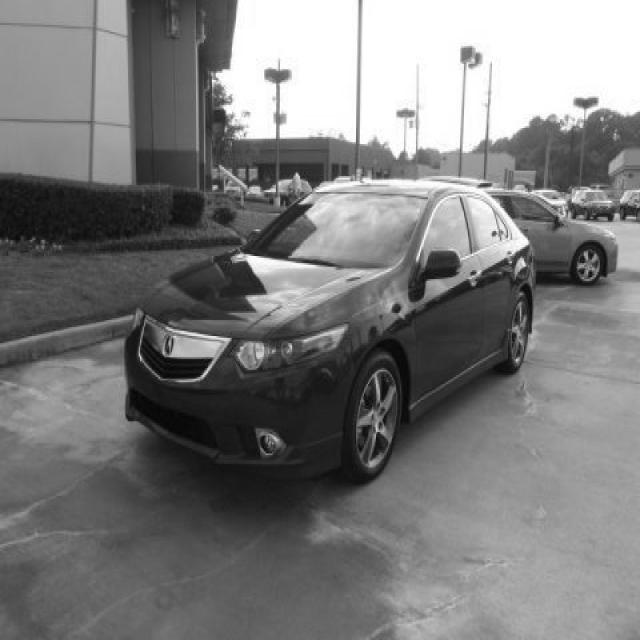car: (123, 176, 536, 484)
